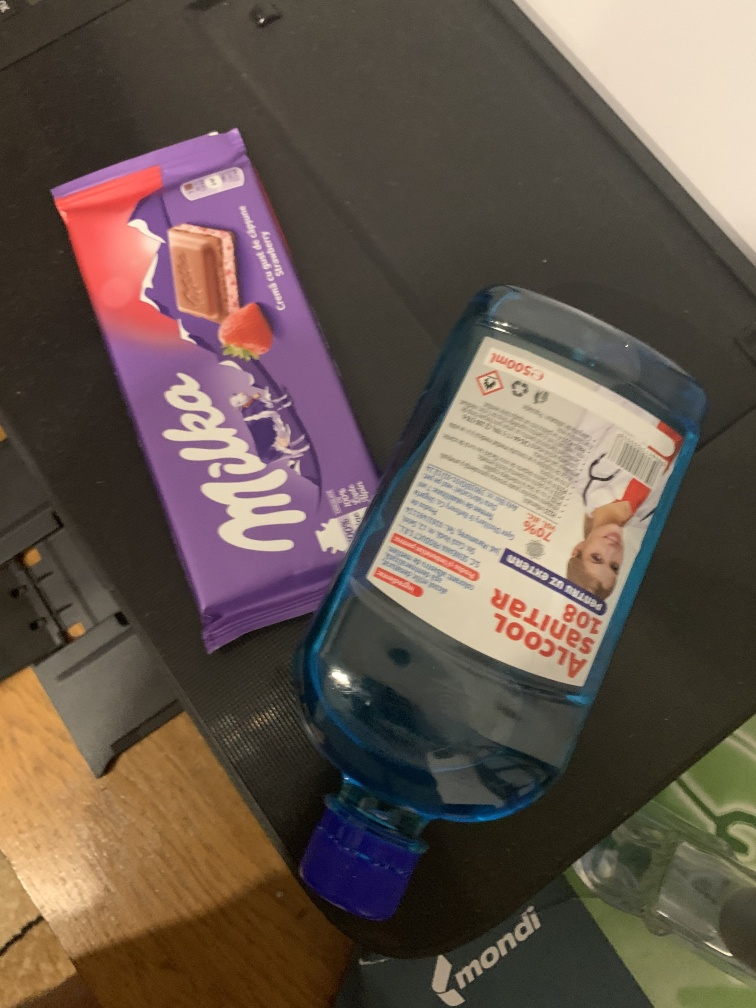milka: (45, 127, 383, 654)
